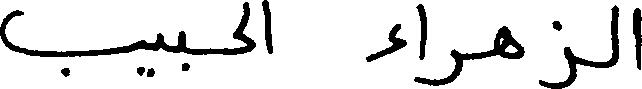X: (0, 5, 142, 81), (541, 16, 575, 88), (367, 19, 406, 66), (429, 44, 462, 88), (233, 0, 254, 59), (496, 21, 524, 63), (419, 0, 427, 88), (261, 0, 273, 58), (634, 0, 641, 88), (612, 0, 617, 88), (179, 26, 186, 75), (157, 28, 163, 55)
